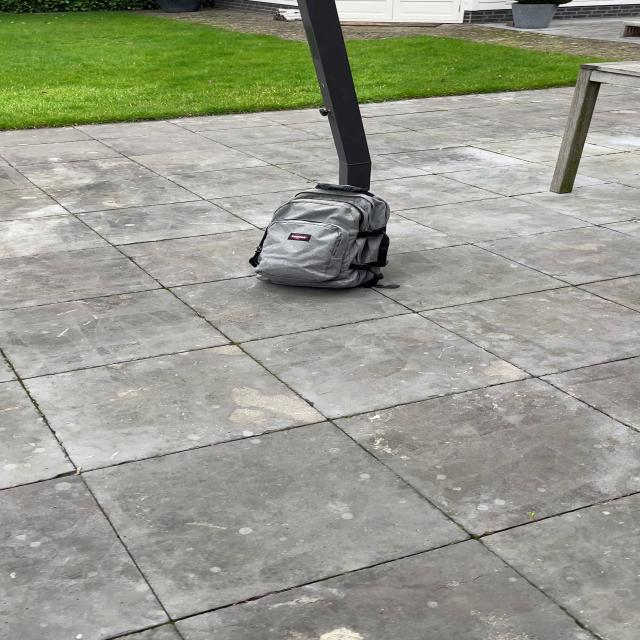backpack: (246, 180, 395, 293)
